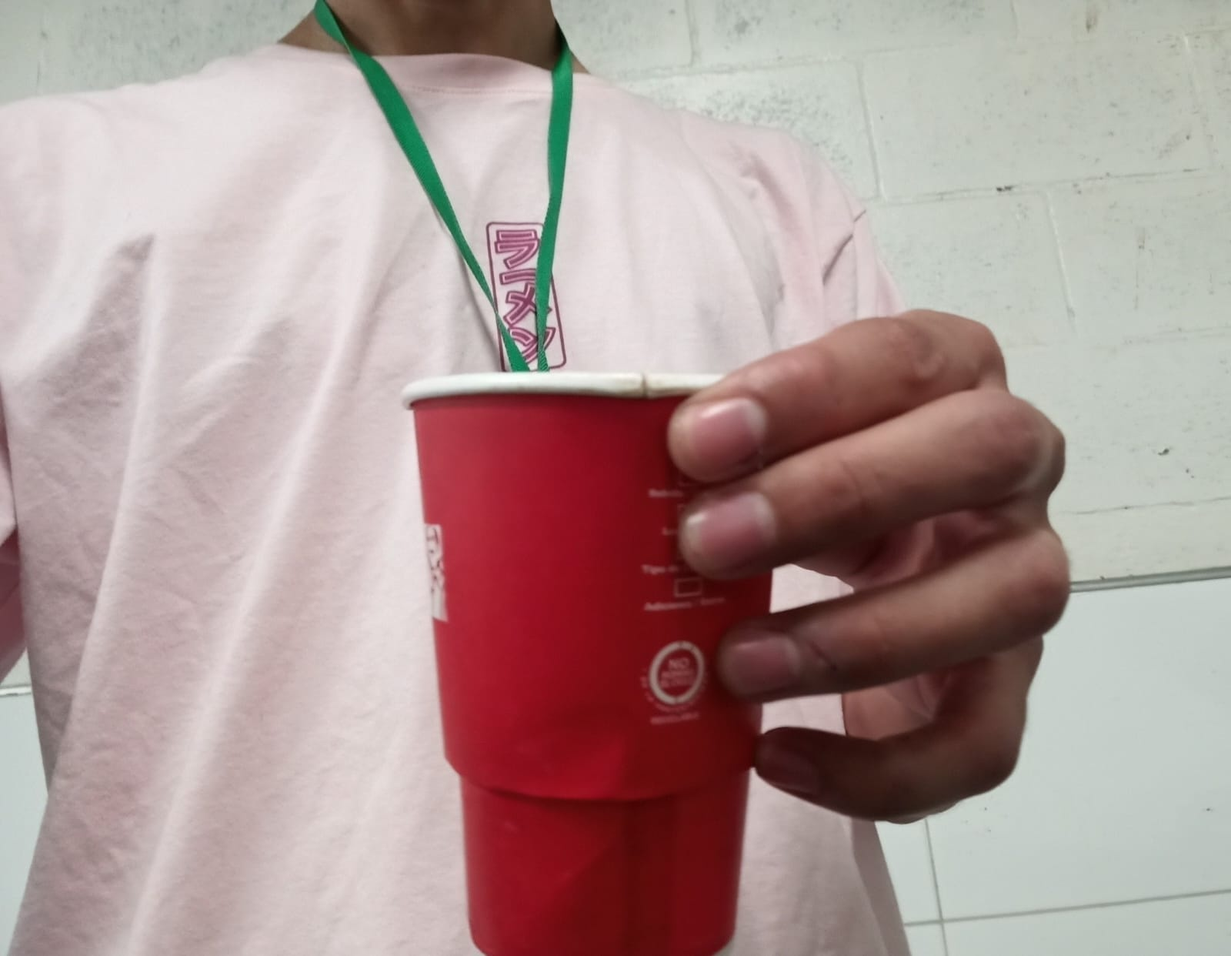Carton: (404, 372, 773, 956)
